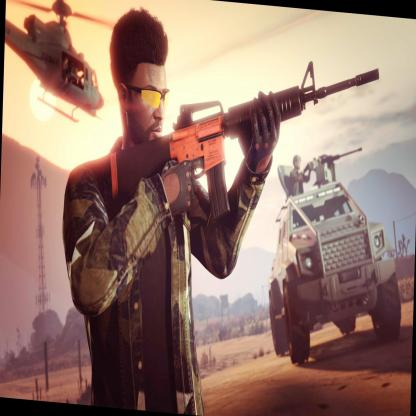rifle: (104, 30, 380, 247)
